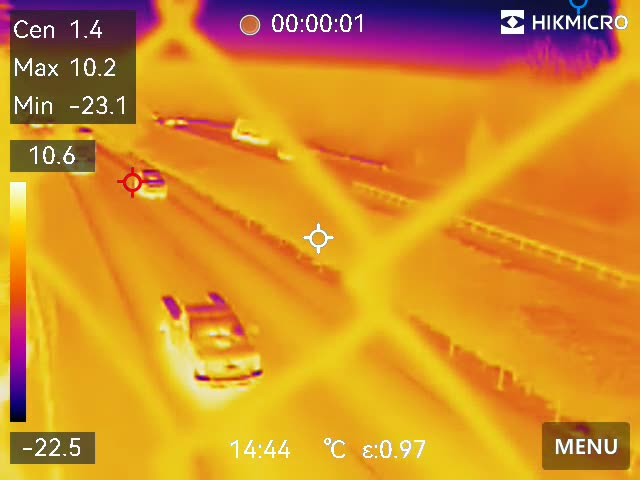heavyTruck: (230, 115, 285, 147)
lightTruck: (156, 284, 273, 398)
smallCar: (136, 166, 172, 201)
